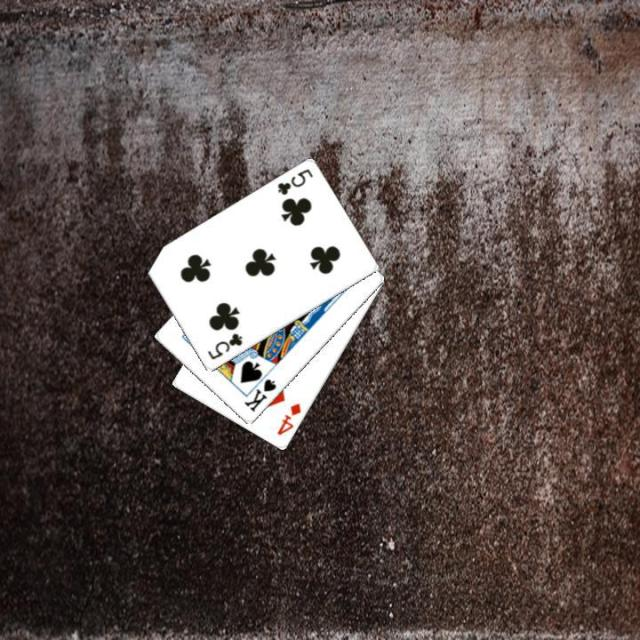4D: (273, 399, 303, 437)
5C: (273, 165, 315, 198), (203, 330, 244, 362)
KS: (240, 375, 278, 414)
